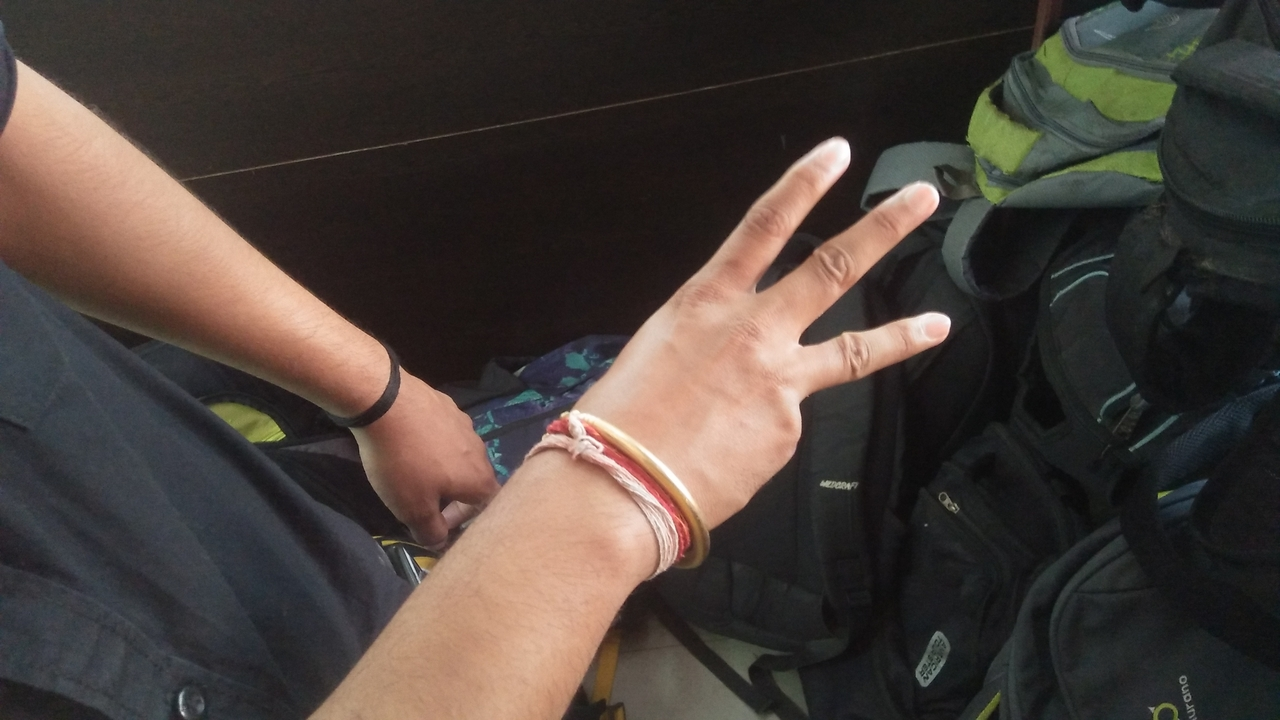fingertip: (878, 170, 952, 226), (792, 128, 862, 178), (911, 305, 963, 350)
